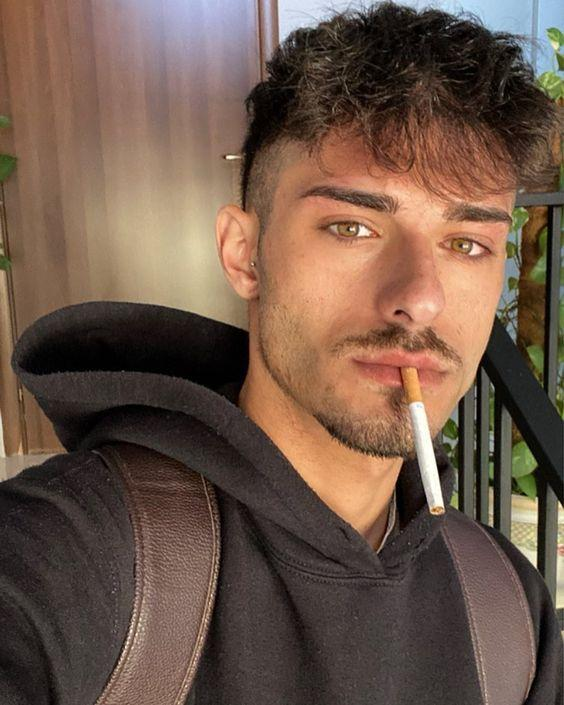cigarette: (400, 366, 447, 516)
